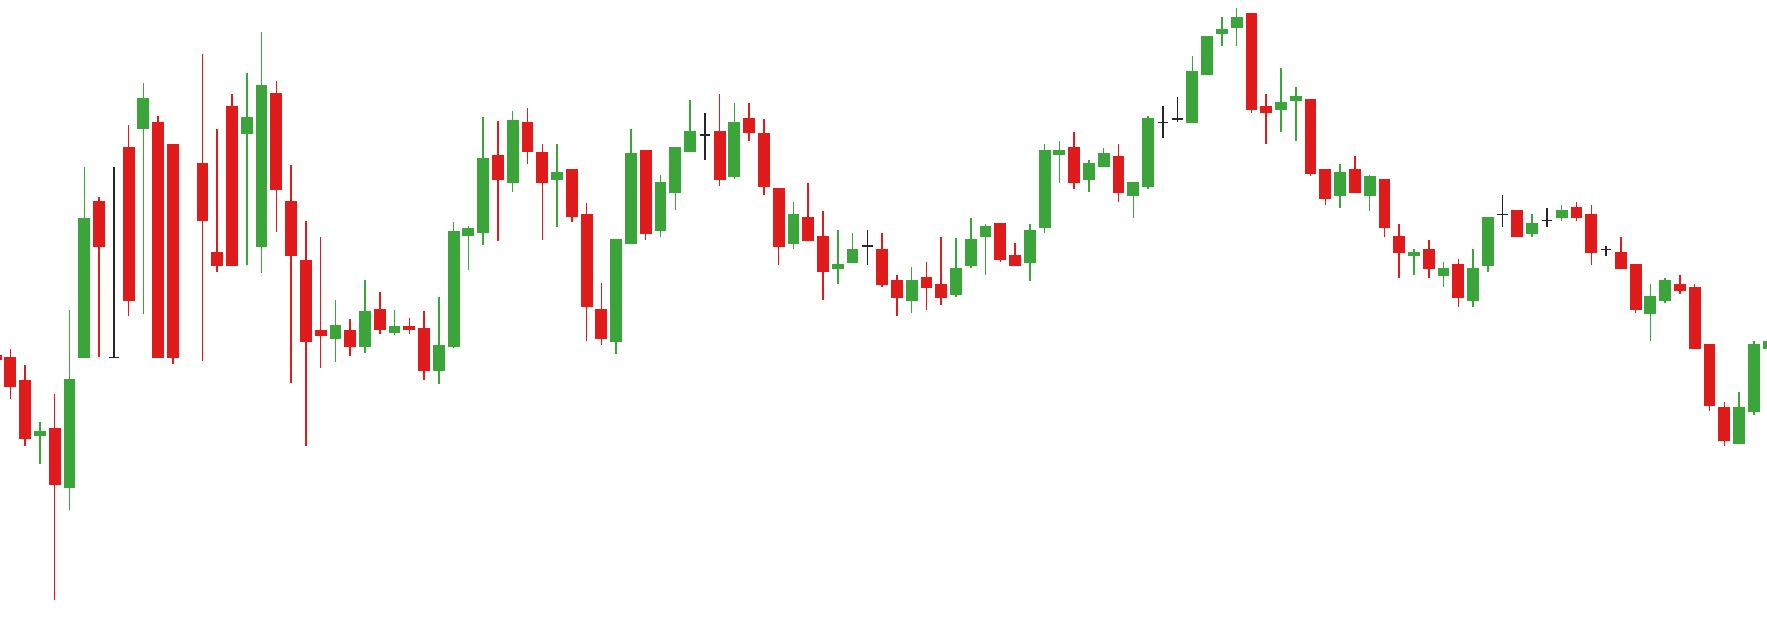buy: (815, 250, 920, 320)
sell: (624, 97, 729, 220)
